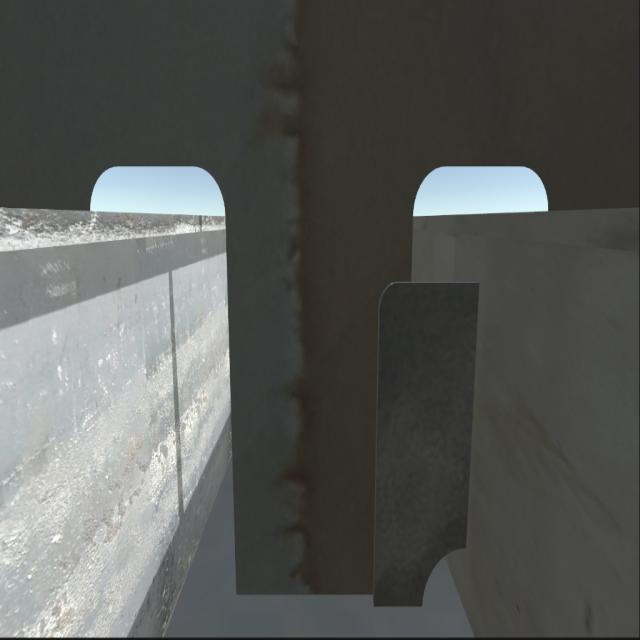fillet_hole: (418, 543, 463, 608)
fillet_yong_jeop_jang: (230, 579, 428, 614)
longi_yong_jeop_jang: (459, 283, 486, 542)
plate_CP05: (371, 281, 483, 611)
